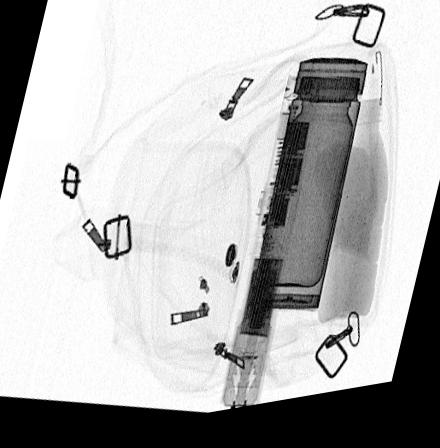Baton: (219, 84, 323, 418)
